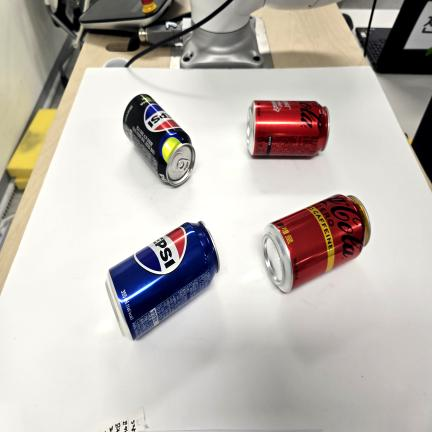can_coke_decaf: (263, 194, 370, 292)
can_coke_zero: (247, 100, 329, 156)
can_pepsi: (106, 222, 219, 340)
can_pepsi_zero: (123, 94, 195, 185)
